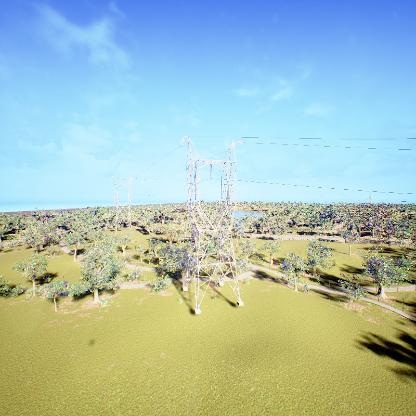tower: (179, 138, 246, 317)
